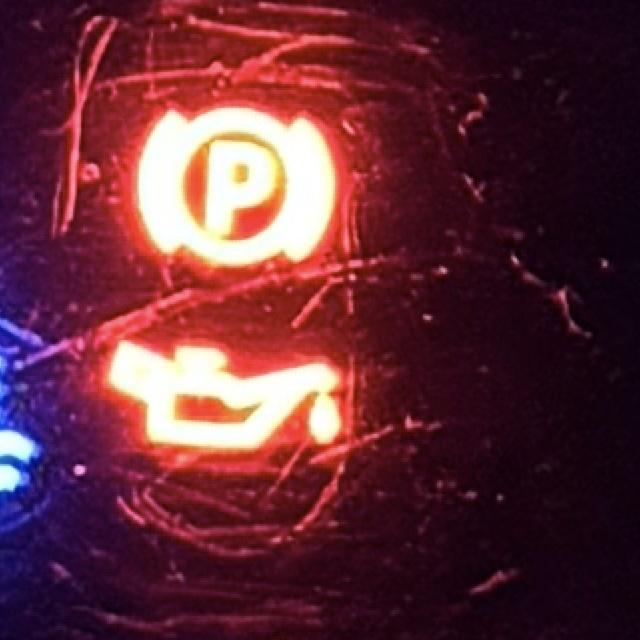Low Oil Pressure Issue: (104, 339, 342, 450)
Parking Break On: (132, 104, 340, 270)
